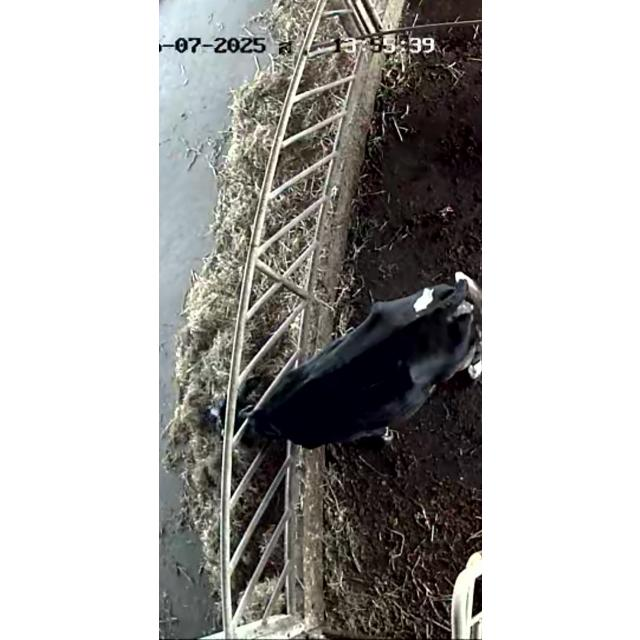eat: (177, 354, 323, 466)
